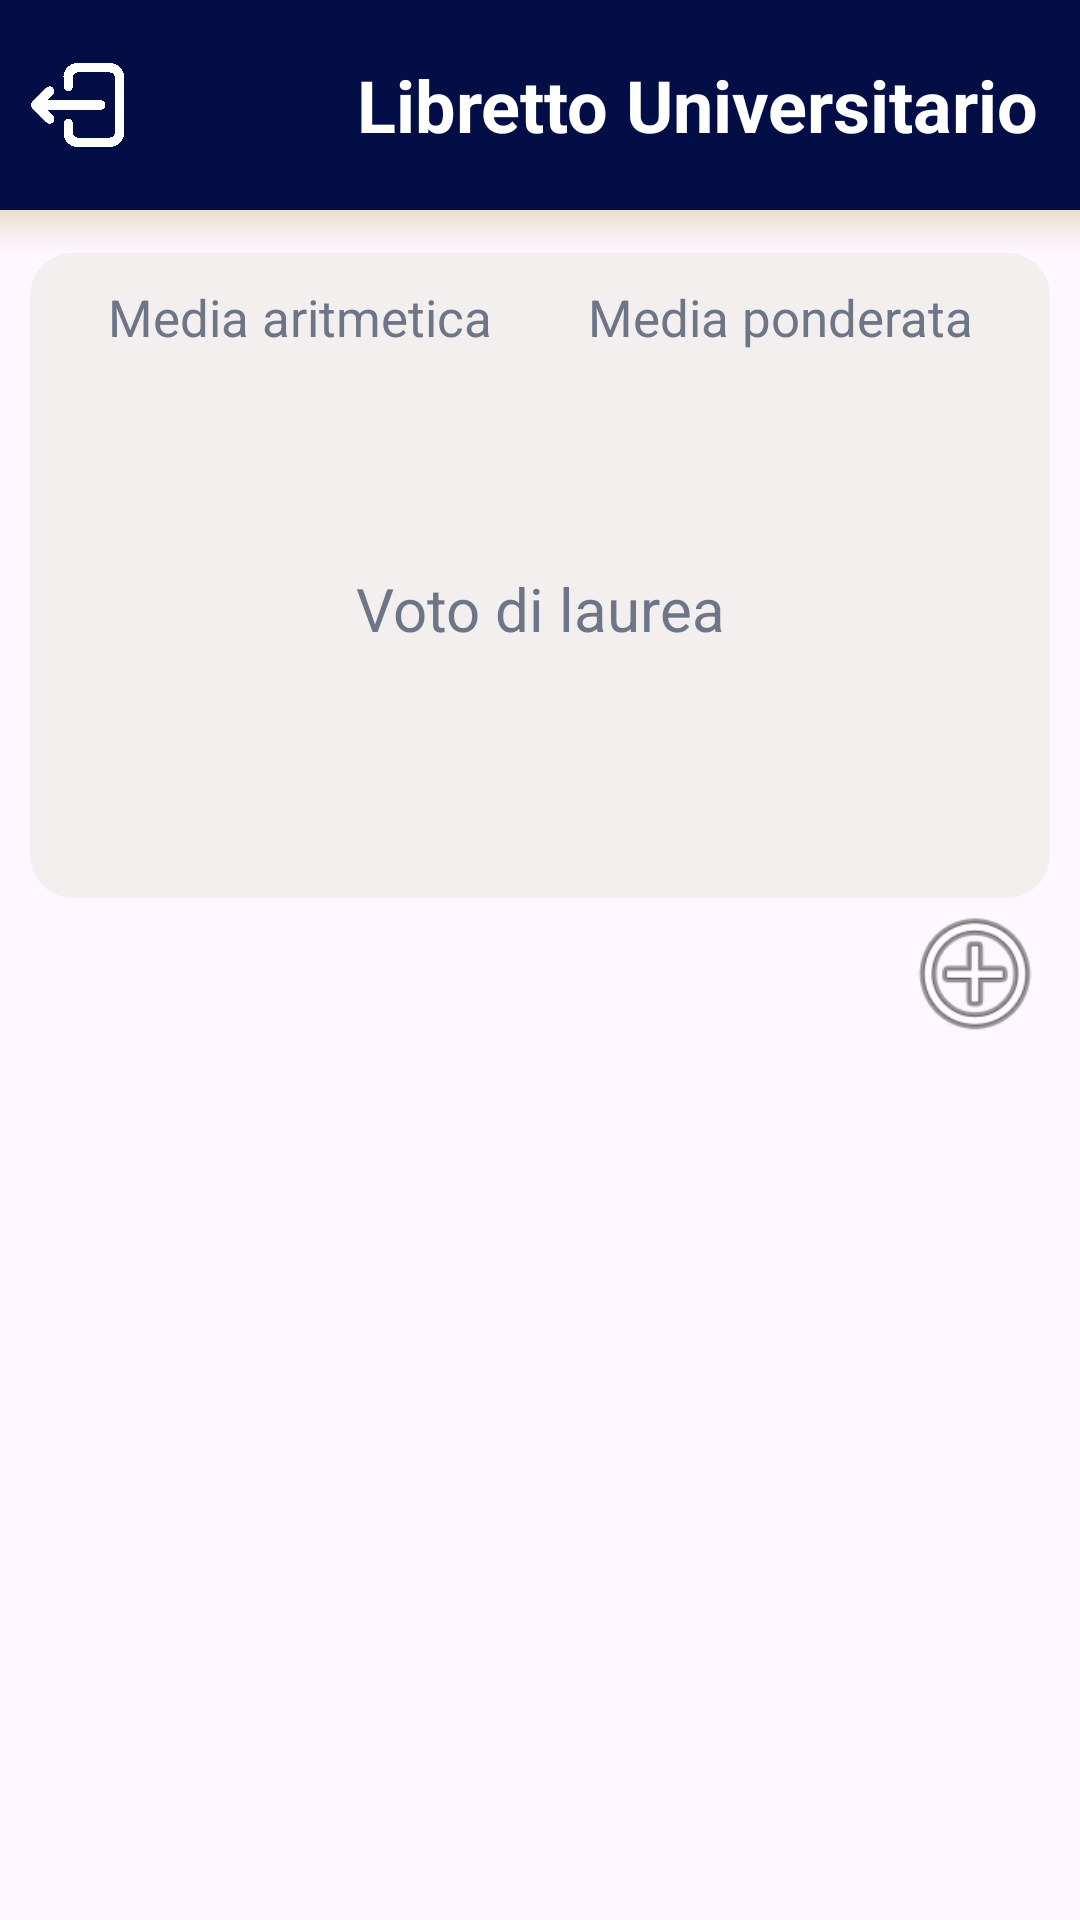

Icon click points for this 1080 x 1920 phone screenshot, format (x=x, y=y):
add: (x=975, y=974)
